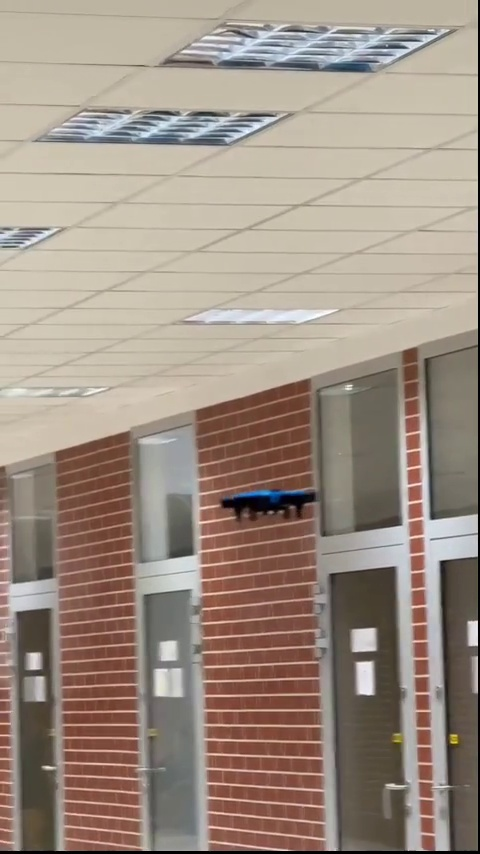drone: (226, 480, 311, 524)
